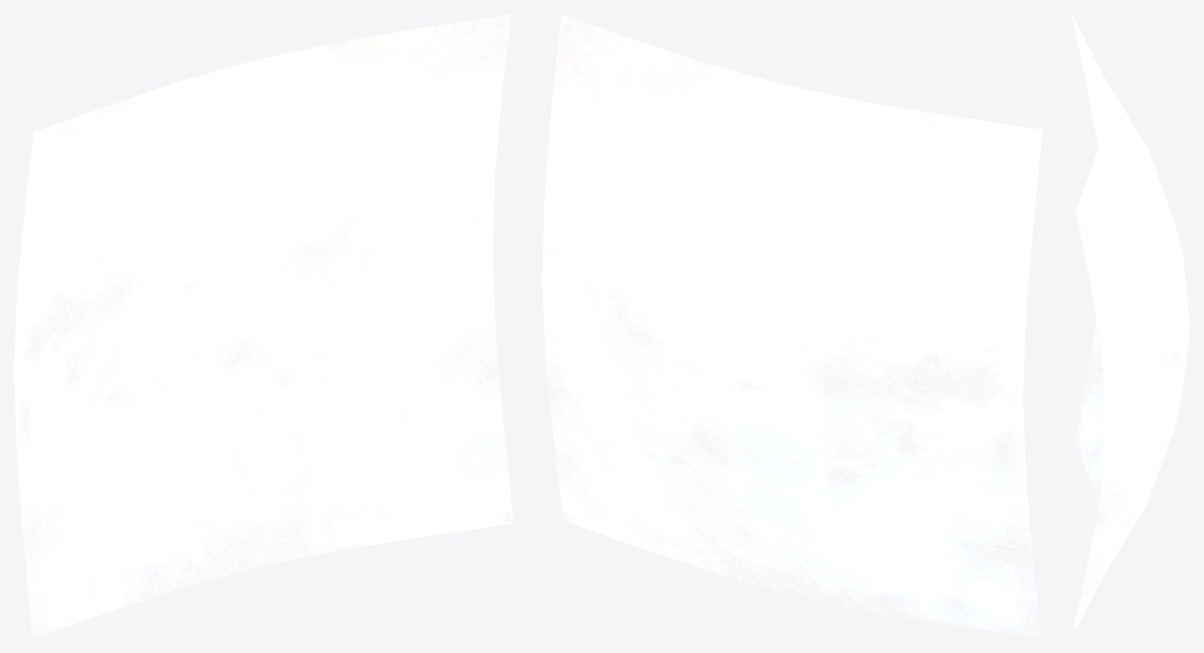
The model's file is bg_terran5_3db.gltf.
The picture shows the model from 3 angles, left to right: view 1: azimuth 30°, elevation 25°; view 2: azimuth 150°, elevation 25°; view 3: azimuth 270°, elevation 25°; orthographic projection. The views are drawn at different scales.
Parts seen in each view (by area): view 1: bg_terran5.3db; view 2: bg_terran5.3db; view 3: bg_terran5.3db.
Part boxes in pixels (<box>): bg_terran5.3db: <box>14,14,513,638</box>; bg_terran5.3db: <box>542,14,1042,638</box>; bg_terran5.3db: <box>1071,15,1189,637</box>.
Size of the model in its own units: 73.75 by 74.6 by 18.8.
Materials: 4 (4 with a texture image).
